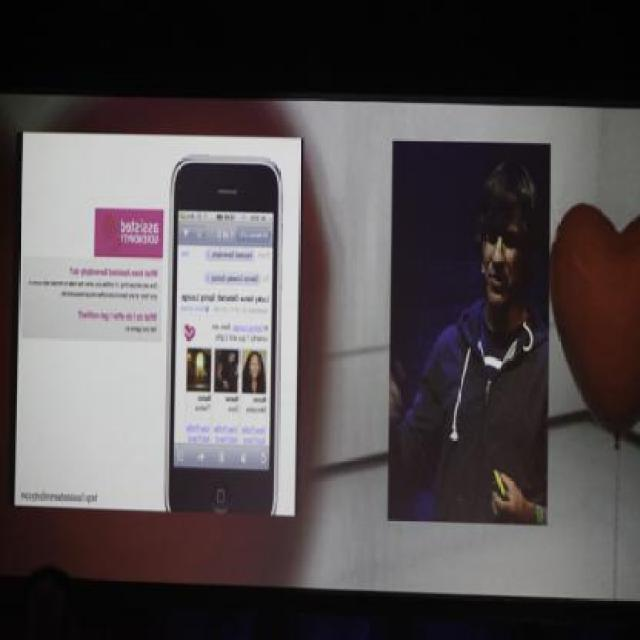phone: (162, 152, 285, 518)
